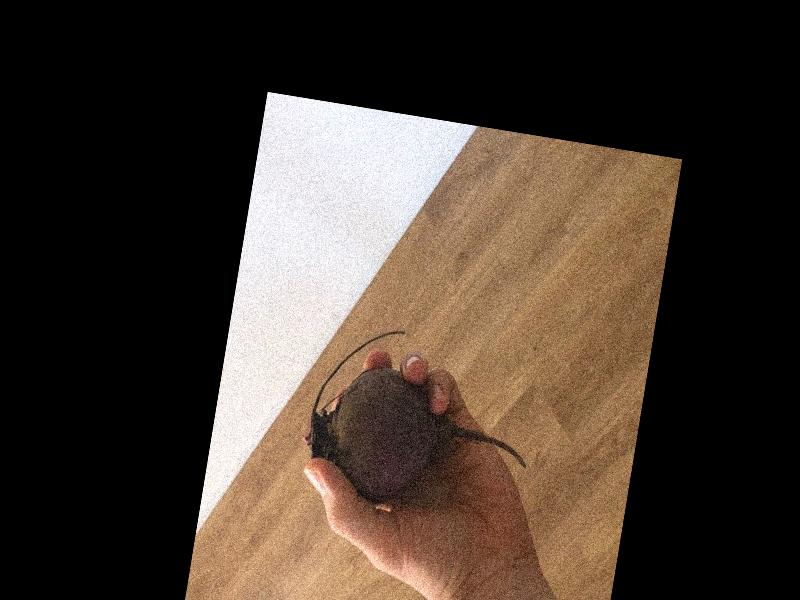Beet: (295, 316, 542, 525)
